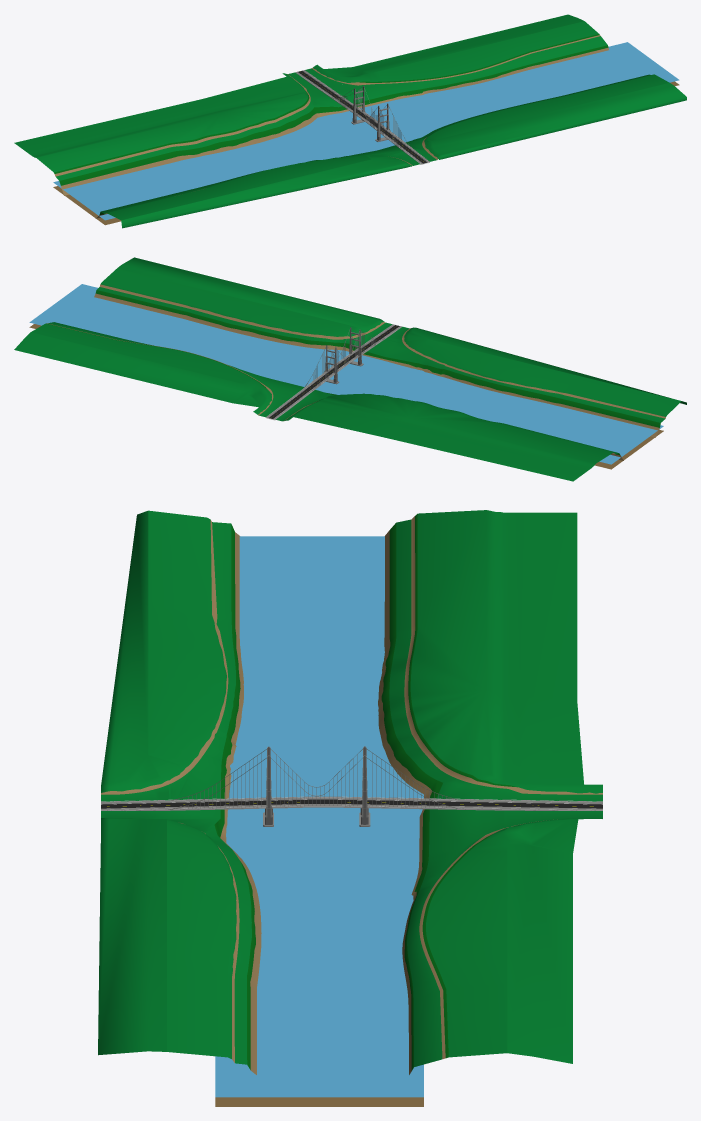
File: highway-03.fbx
3 views of the same model, one above another, from view 1: azimuth 30°, elevation 25°; view 2: azimuth 150°, elevation 25°; view 3: azimuth 270°, elevation 25° (orthographic). The views are drawn at different scales.
Parts seen in each view (by area): view 1: HW2-Sides, HW-Water, Bridge-01-B, Bridge-01-A; view 2: HW2-Sides, HW-Water, Bridge-01-B, Bridge-01-A; view 3: HW2-Sides, HW-Water, Bridge-01-B, Bridge-01-A.
Part boxes in pixels (bbox=[...]): HW2-Sides: bbox=[14, 14, 686, 228]; HW-Water: bbox=[53, 42, 679, 220]; Bridge-01-B: bbox=[295, 70, 429, 164]; Bridge-01-A: bbox=[332, 86, 412, 149]; HW2-Sides: bbox=[14, 257, 686, 481]; HW-Water: bbox=[29, 284, 663, 464]; Bridge-01-B: bbox=[266, 324, 401, 420]; Bridge-01-A: bbox=[304, 327, 384, 390]; HW2-Sides: bbox=[98, 510, 602, 1106]; HW-Water: bbox=[215, 536, 423, 1097]; Bridge-01-B: bbox=[101, 796, 602, 810]; Bridge-01-A: bbox=[168, 746, 465, 826].
Size of what is drawn, in the model's own units: 1542 by 102 by 584.
